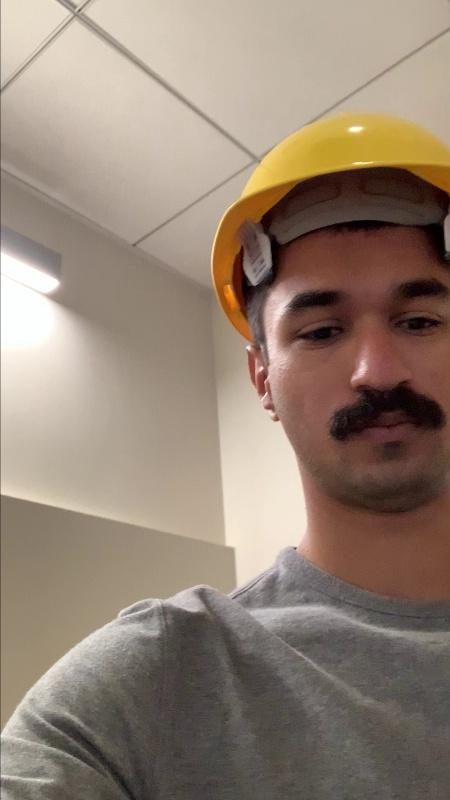helmet: (224, 114, 448, 206)
